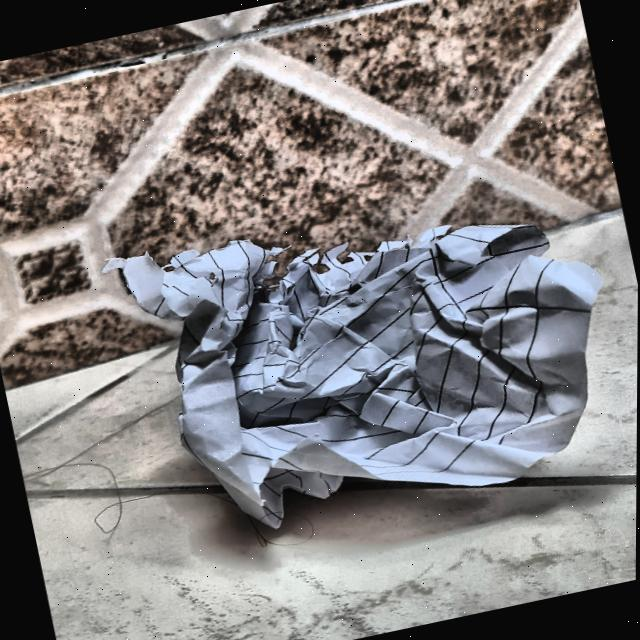paper: (104, 173, 639, 587)
